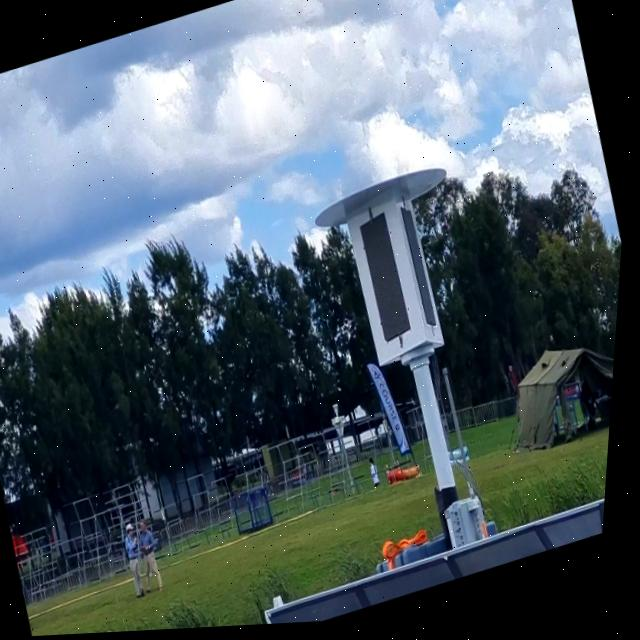led: (347, 206, 430, 358)
